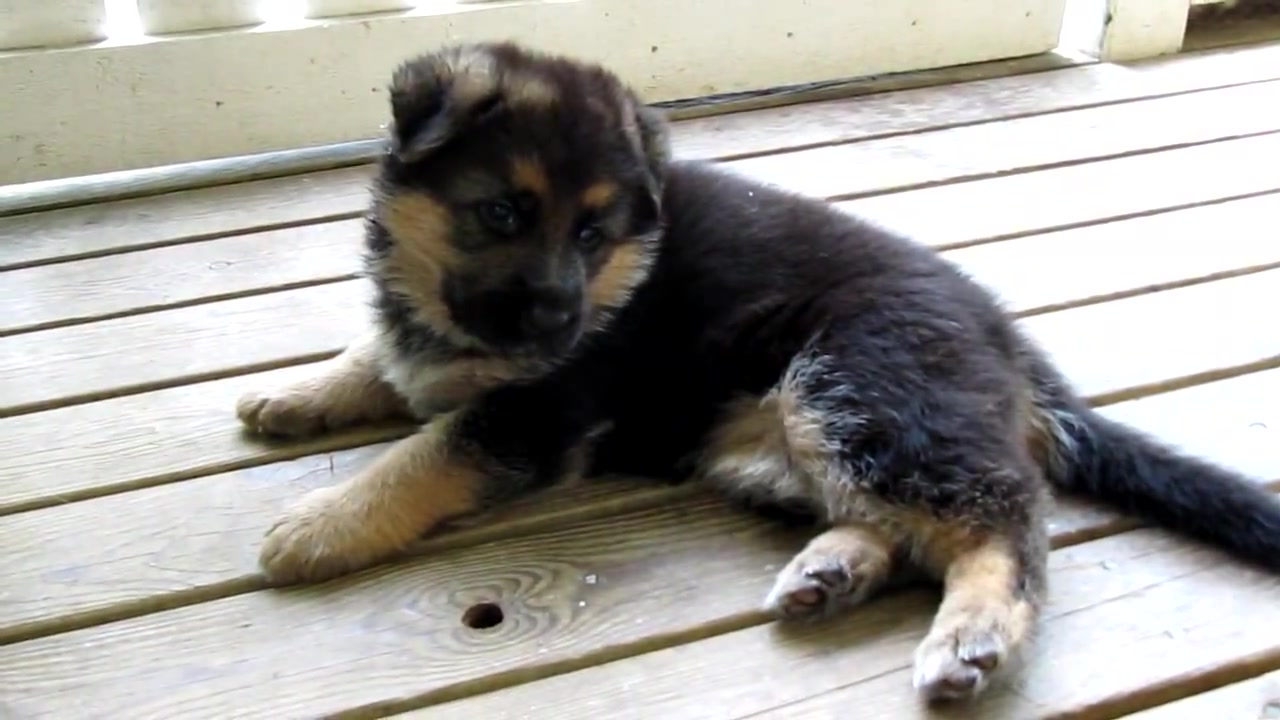dog: (236, 50, 1280, 709)
